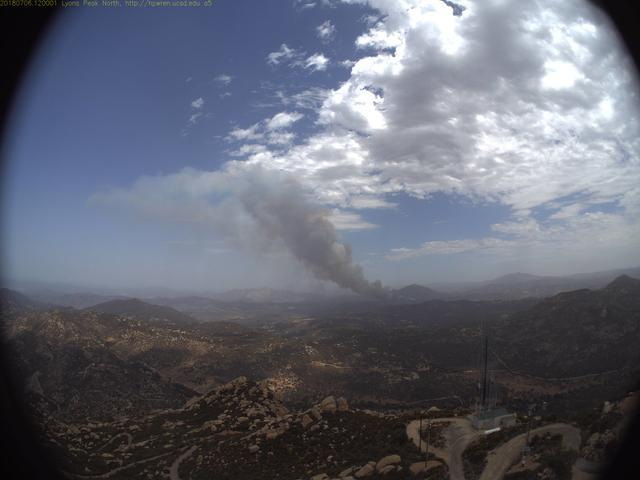smoke: (101, 157, 413, 306)
